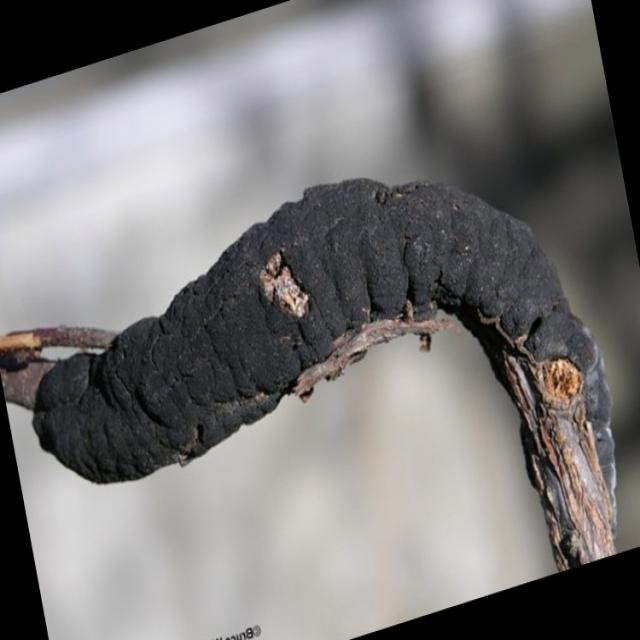Black_knot: (1, 174, 618, 572)
